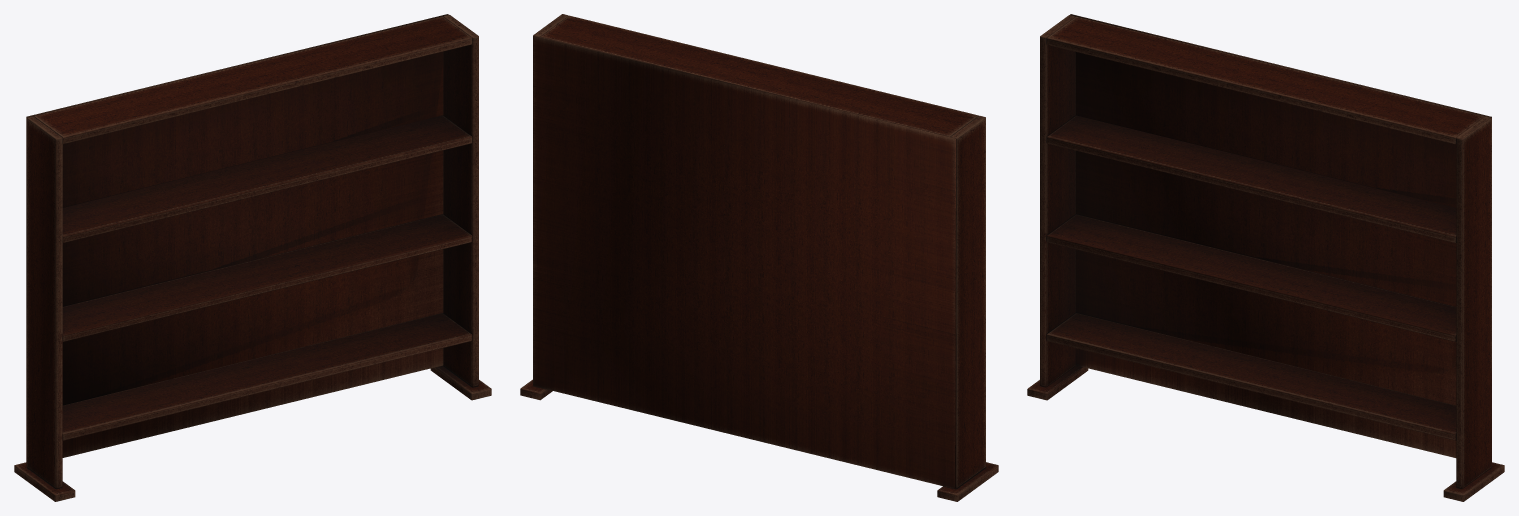
File: Stand.fbx
3 views of the same model, side by side, from view 1: azimuth 30°, elevation 25°; view 2: azimuth 150°, elevation 25°; view 3: azimuth 330°, elevation 25° (orthographic).
Parts seen in each view (by area): view 1: Stand_mesh; view 2: Stand_mesh; view 3: Stand_mesh.
Boxes of the visible parts, x1,y1,x2,y2 form: Stand_mesh: (14,14,491,501); Stand_mesh: (520,14,998,501); Stand_mesh: (1027,14,1504,501).
Bounding box in the file's own units: 1.28 × 1 × 0.21.
